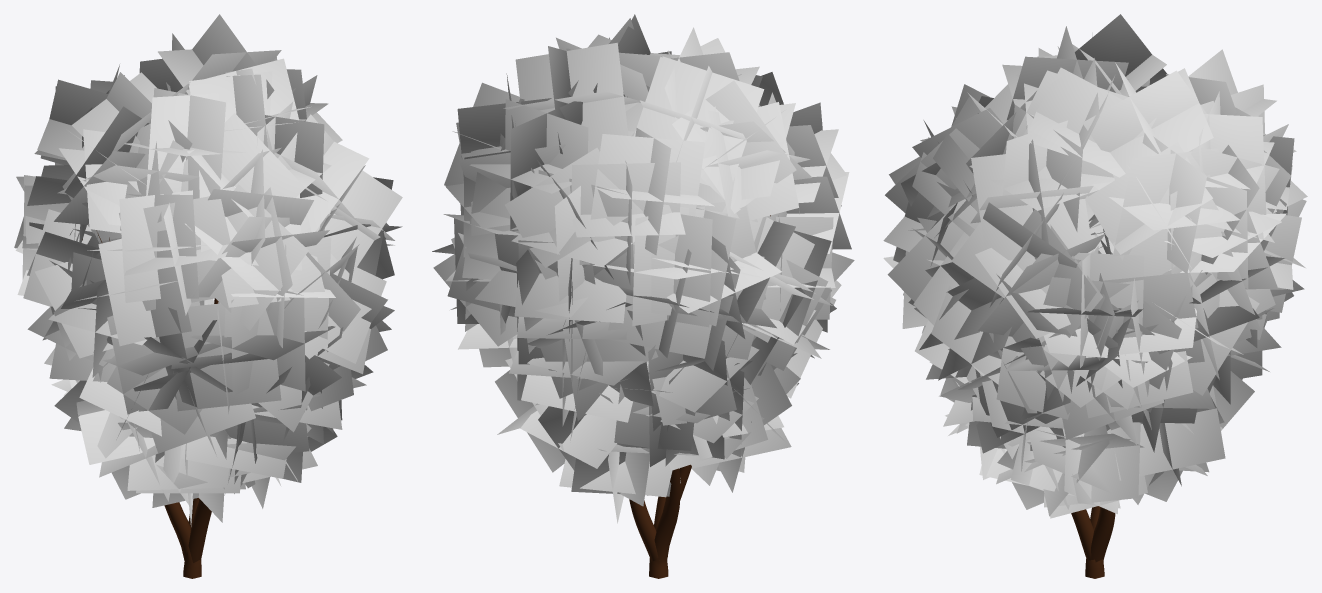
File: Bush.fbx
The picture shows the model from 3 angles, left to right: view 1: azimuth 30°, elevation 25°; view 2: azimuth 150°, elevation 25°; view 3: azimuth 270°, elevation 25°; orthographic projection. The views are drawn at different scales.
Parts seen in each view (by area): view 1: LeavesBranch, Branch; view 2: LeavesBranch, Branch; view 3: LeavesBranch, Branch.
Part boxes in pixels (x1,y1,x2,y2): LeavesBranch: (14,14,402,526); Branch: (82,230,218,578); LeavesBranch: (432,14,854,523); Branch: (629,215,770,578); LeavesBranch: (883,14,1307,518); Branch: (1071,506,1115,578).
Bounding box in the file's own units: 117 × 168 × 120.
